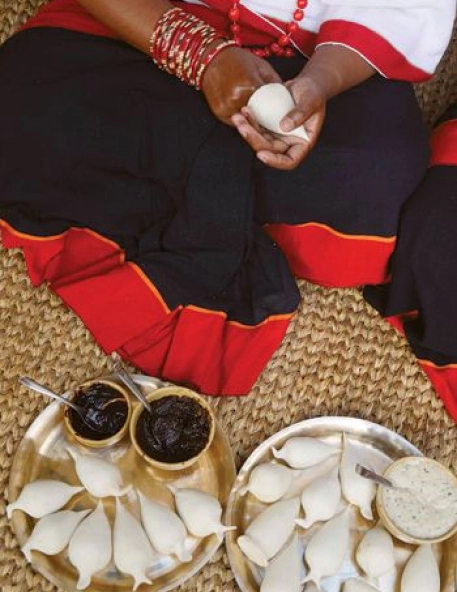yomari: (244, 84, 314, 149), (71, 504, 114, 590), (299, 529, 353, 592), (172, 487, 238, 538), (7, 479, 82, 523), (113, 520, 159, 590), (236, 511, 291, 568), (343, 453, 380, 522), (147, 511, 191, 569), (298, 471, 339, 529), (15, 523, 71, 561), (359, 523, 395, 582), (403, 540, 441, 592), (238, 462, 287, 501), (83, 463, 129, 502), (270, 429, 324, 460)
